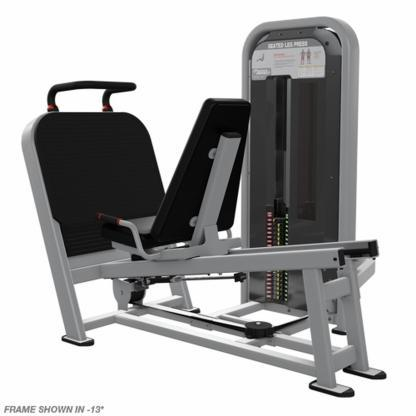leg press: (21, 19, 394, 399)
